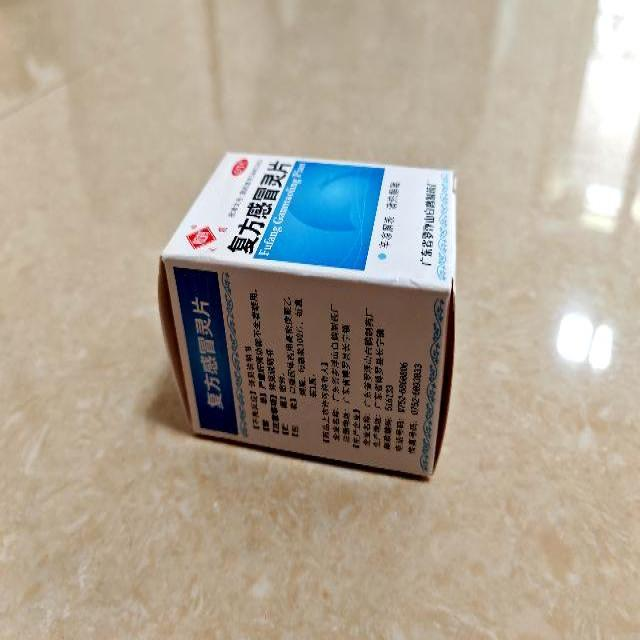box: (160, 150, 456, 480)
